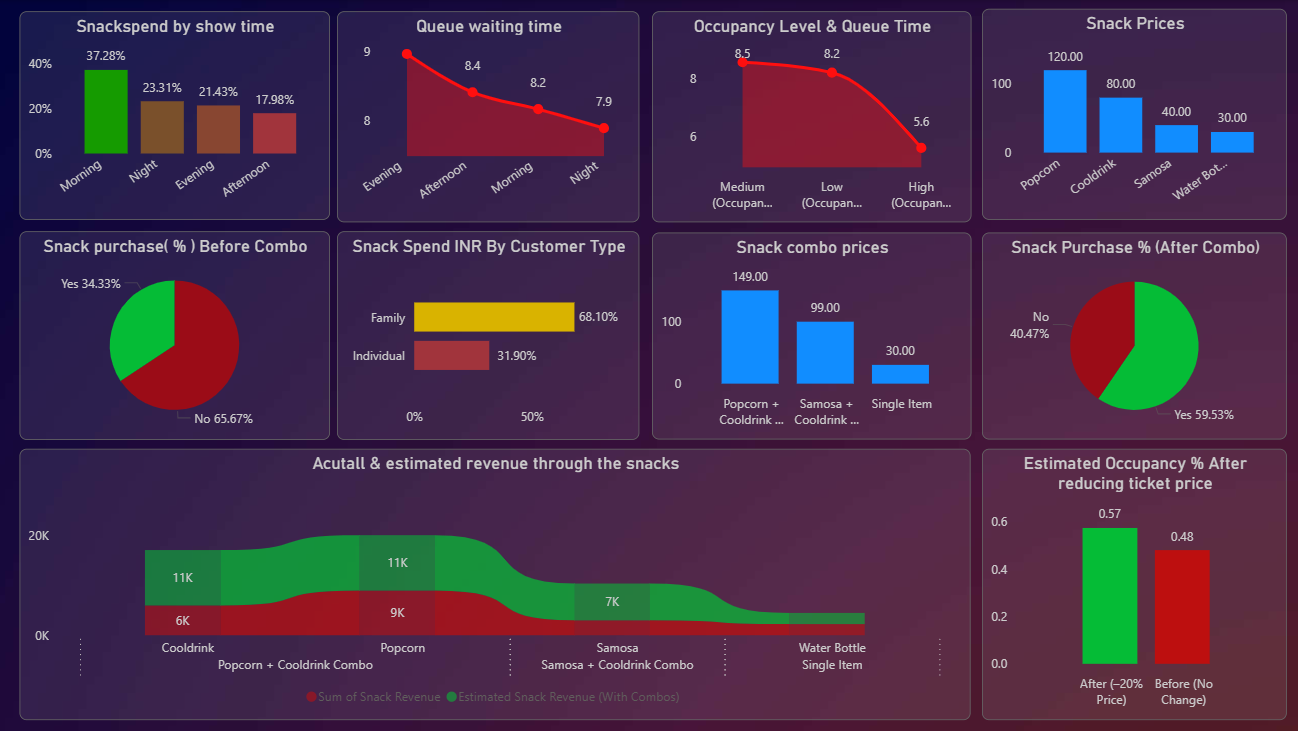

What the dashboard file says about the page in this screenshot:
{"tool":"powerbi","page":{"name":"Page 2","canvas":[1280,720],"ordinal":1},"visuals":[{"type":"columnChart","title":"Snackspend by show time ","fields":{"Category":["Cinema operations decision audit.Show_Time"],"Y":["Cinema operations decision audit.Total Snack Revenue"]},"box":[21.8,11.5,304.7,204.8],"z":0},{"type":"clusteredBarChart","title":" Snack Spend INR By Customer Type","fields":{"Category":["Cinema operations decision audit.Customer_Type"],"Y":["Cinema operations decision audit.Total Snack Revenue"]},"box":[334.1,226.6,297,204.8],"z":1000},{"type":"lineChart","title":"Occupancy Level & Queue Time","fields":{"Category":["Cinema operations decision audit.Occupancy_Level"],"Y":["Avg(Cinema operations decision audit.Queue_Time_Minutes)"]},"box":[642.7,11.5,313.7,207.4],"z":2000},{"type":"lineChart","title":"Queue waiting time","fields":{"Category":["Cinema operations decision audit.Show_Time"],"Y":["Avg(Cinema operations decision audit.Queue_Time_Minutes)"]},"box":[334.1,11.5,297,207.4],"z":3000},{"type":"columnChart","title":" Snack Prices","fields":{"Category":["Cinema operations decision audit.Snack Name"],"Y":["Avg(Cinema operations decision audit.Snack Price)"]},"box":[966.6,9,299.6,207.4],"z":4000},{"type":"pieChart","title":"Snack purchase( % ) Before Combo","fields":{"Category":["Cinema operations decision audit.Snack_Purchased"],"Y":["CountNonNull(Cinema operations decision audit.Snack_Purchased)"]},"box":[21.8,226.6,304.7,204.8],"z":5000},{"type":"columnChart","title":"Snack combo prices","fields":{"Category":["Cinema operations decision audit.Combo Type"],"Y":["Avg(Cinema operations decision audit.Combo Price INR)"]},"box":[642.7,227.9,313.7,203.6],"z":6000},{"type":"pieChart","title":"Snack Purchase % (After Combo)","fields":{"Category":["Cinema operations decision audit.Snack_Purchased"],"Y":["Cinema operations decision audit.Snack Purchase % (After Combo)"]},"box":[966.6,227.9,299.6,203.6],"z":7000},{"type":"columnChart","title":"Estimated Occupancy % After reducing ticket price","fields":{"Category":["Cinema operations decision audit.Price Optimization Scenario"],"Y":["Cinema operations decision audit.Estimated Occupancy %"]},"box":[966.6,440.4,299.6,266.3],"z":8000},{"type":"ribbonChart","title":"Acutall & estimated revenue through the snacks","fields":{"Category":["Cinema operations decision audit.Combo Type","Cinema operations decision audit.Snack Name"],"Y":["Sum(Cinema operations decision audit.Snack Revenue)","Cinema operations decision audit.Estimated Snack Revenue (With Combos)"]},"box":[22.1,440.5,933.7,266.3],"z":9000}]}

Visuals, with their boxes in screenshot pixels (x1, y1, x2, y2), scaled from the page's 1280x720 canvas onto the 1298x731 screenshot:
"Snackspend by show time " columnChart: (22, 12, 331, 220)
" Snack Spend INR By Customer Type" clusteredBarChart: (339, 230, 640, 438)
"Occupancy Level & Queue Time" lineChart: (652, 12, 970, 222)
"Queue waiting time" lineChart: (339, 12, 640, 222)
" Snack Prices" columnChart: (980, 9, 1284, 220)
"Snack purchase( % ) Before Combo" pieChart: (22, 230, 331, 438)
"Snack combo prices" columnChart: (652, 231, 970, 438)
"Snack Purchase % (After Combo)" pieChart: (980, 231, 1284, 438)
"Estimated Occupancy % After reducing ticket price" columnChart: (980, 447, 1284, 717)
"Acutall & estimated revenue through the snacks" ribbonChart: (22, 447, 969, 718)
